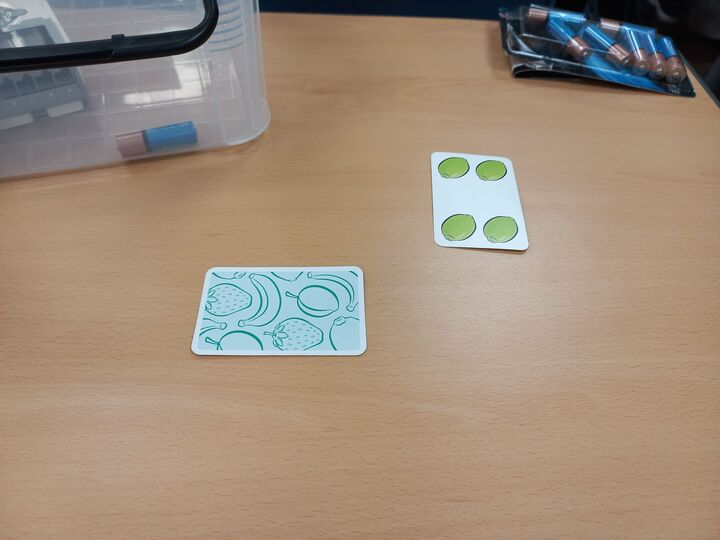lime4: (428, 149, 531, 253)
